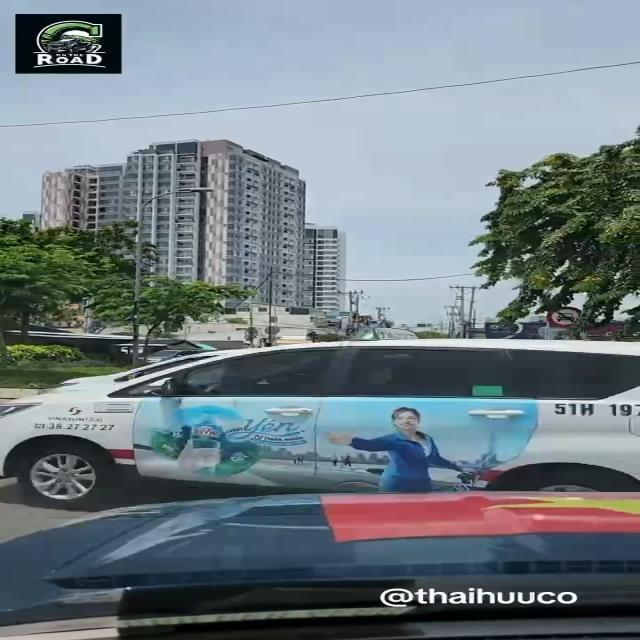103a-cam-oto: (548, 304, 589, 328)
